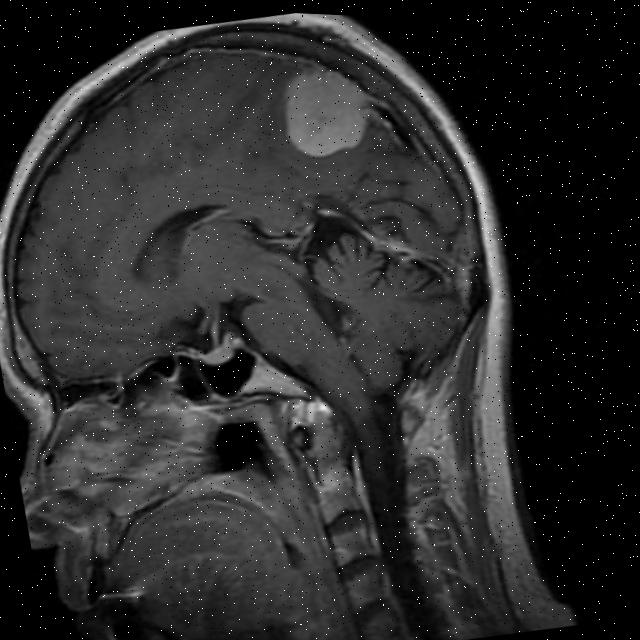Meningioma: (272, 53, 382, 167)
